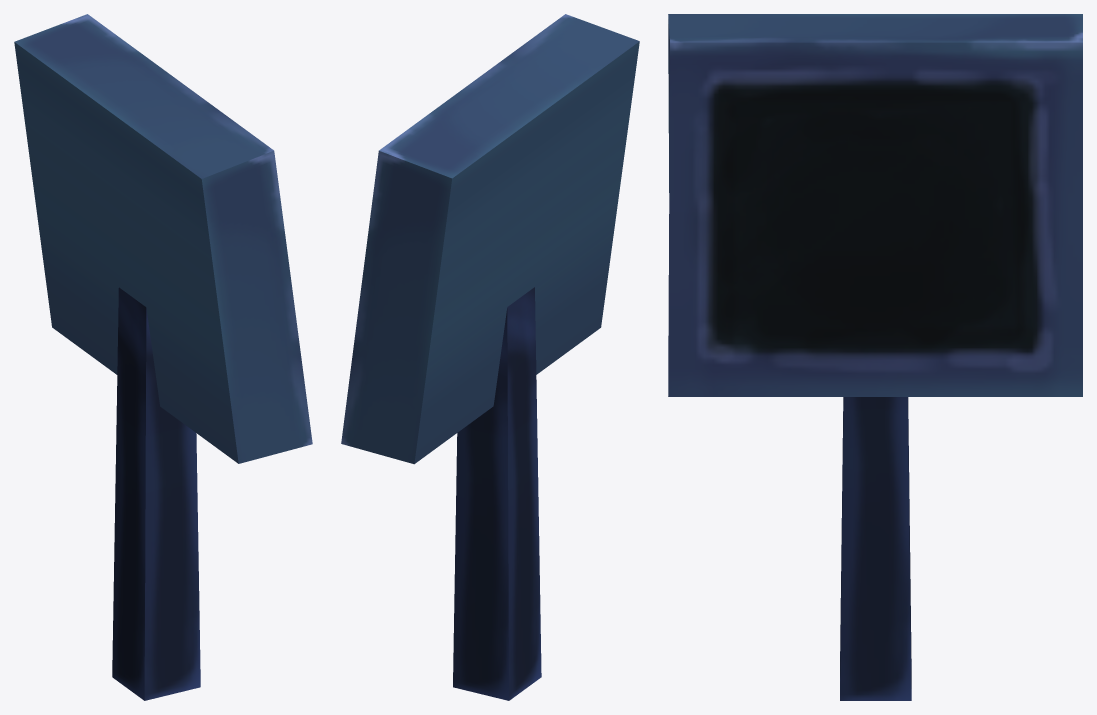
Rendered from Sign.fbx.
3 renders of one model, left to right at view 1: azimuth 30°, elevation 25°; view 2: azimuth 150°, elevation 25°; view 3: azimuth 270°, elevation 25°, orthographic. The views are drawn at different scales.
Parts seen in each view (by area): view 1: Cube; view 2: Cube; view 3: Cube.
Part boxes in pixels (x1,y1,x2,y2): Cube: (14, 14, 312, 700); Cube: (341, 14, 639, 700); Cube: (668, 14, 1082, 700).
Bounding box in the file's own units: 87.98 × 450 × 257.
1 material, 1 textured.
